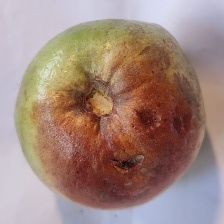guava: (27, 26, 200, 169)
